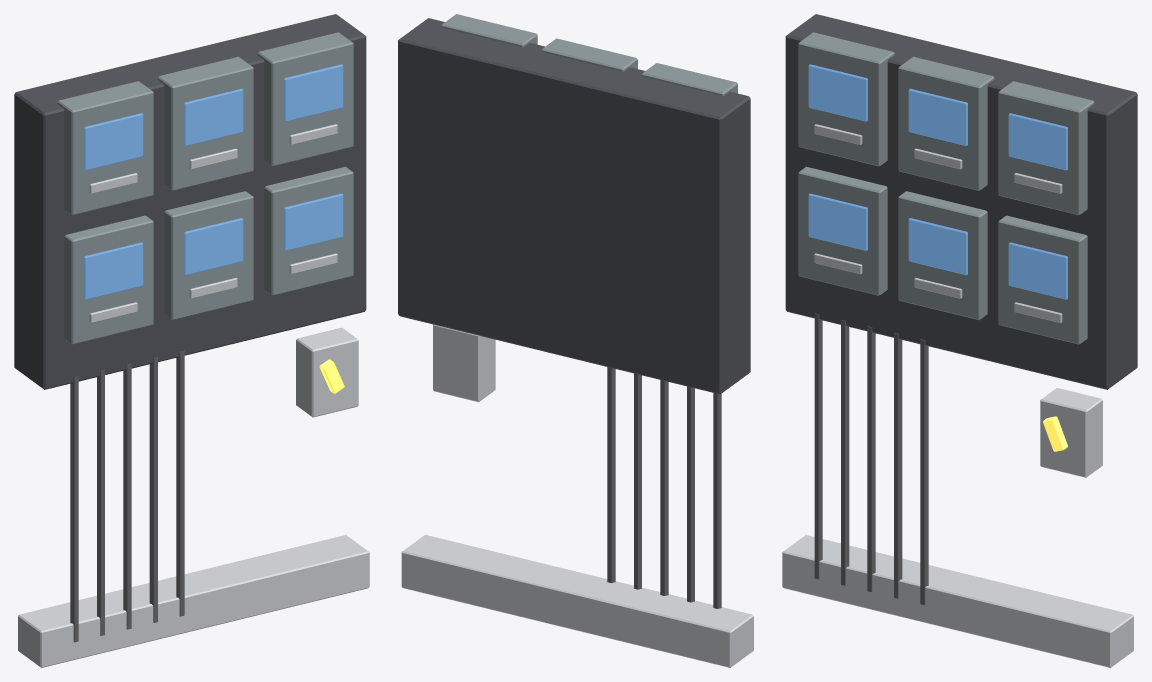
File: cyberpunk-apartment-and-neon-block-utility-meter-bank-fecf038e__37800.glb
The picture shows the model from 3 angles, left to right: view 1: azimuth 30°, elevation 25°; view 2: azimuth 150°, elevation 25°; view 3: azimuth 330°, elevation 25°; orthographic projection.
Parts seen in each view (by area): view 1: utility-meter-bank; view 2: utility-meter-bank; view 3: utility-meter-bank.
Boxes of the visible parts, x1=… form: utility-meter-bank: x1=14, y1=14, x2=369, y2=667; utility-meter-bank: x1=398, y1=14, x2=753, y2=667; utility-meter-bank: x1=782, y1=14, x2=1137, y2=667.
Size of the model in its own units: 1.12 by 1.81 by 0.245.
